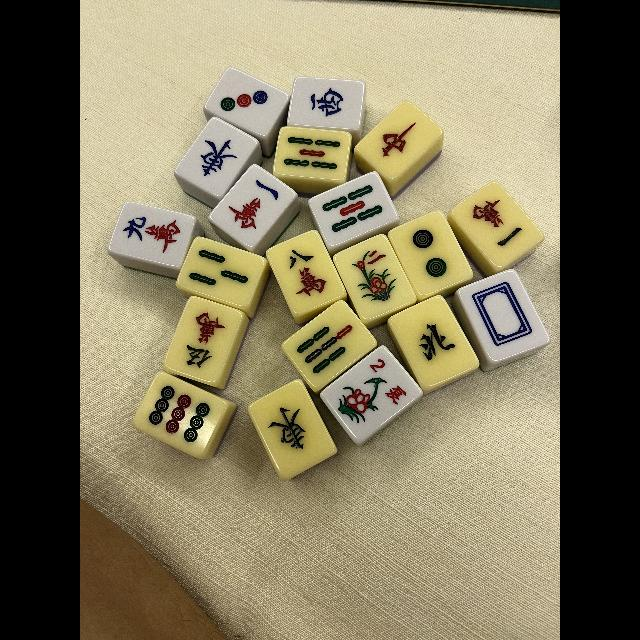b3: (184, 243, 258, 299)
b5: (318, 181, 388, 235), (276, 129, 348, 179)
b7: (292, 316, 363, 376)
c1: (464, 191, 532, 261), (224, 172, 286, 240)
c5: (178, 304, 234, 378)
c8: (278, 236, 332, 308)
c9: (115, 206, 188, 258)
d2: (398, 220, 460, 288)
d3: (214, 75, 278, 128)
d9: (140, 379, 218, 449)
dr: (369, 113, 429, 167)
dw: (467, 277, 539, 355)
s2: (364, 356, 408, 409)
s2-s: (346, 242, 402, 314)
we: (258, 388, 324, 470), (190, 128, 244, 186)
wn: (401, 307, 467, 379)
ww: (292, 78, 362, 126)
